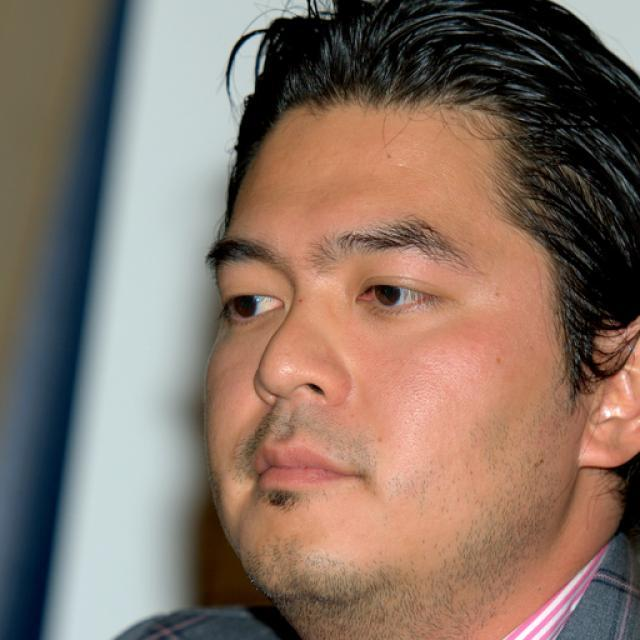neutral: (200, 78, 571, 622)
